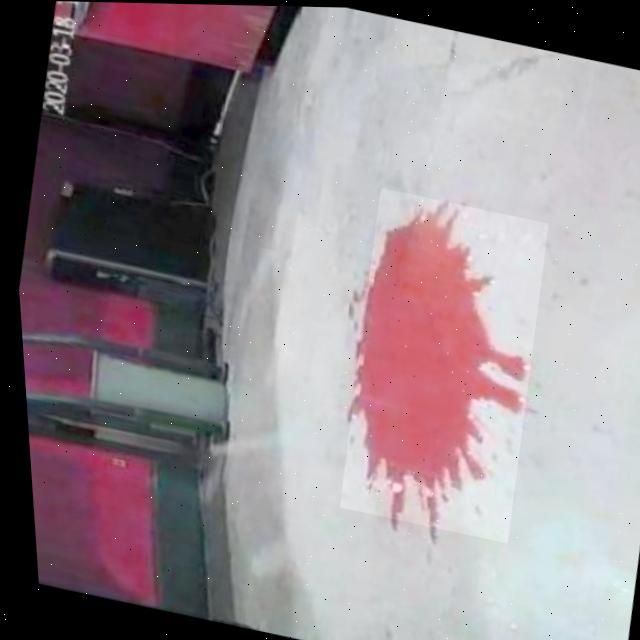spillage: (348, 202, 523, 520)
